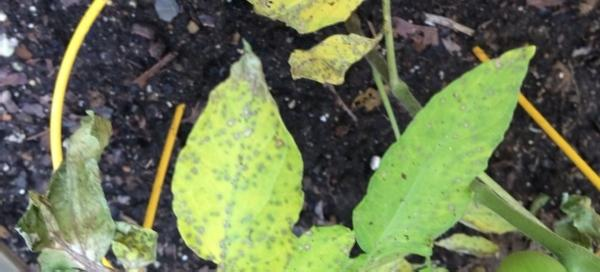Tomato Septoria leaf spot: (348, 41, 539, 263), (169, 30, 314, 264)
